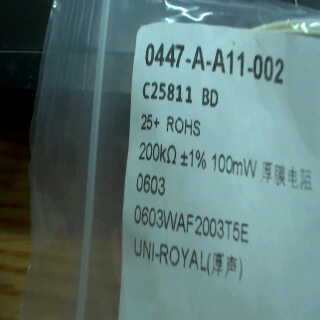200kR: (138, 138, 179, 166)
